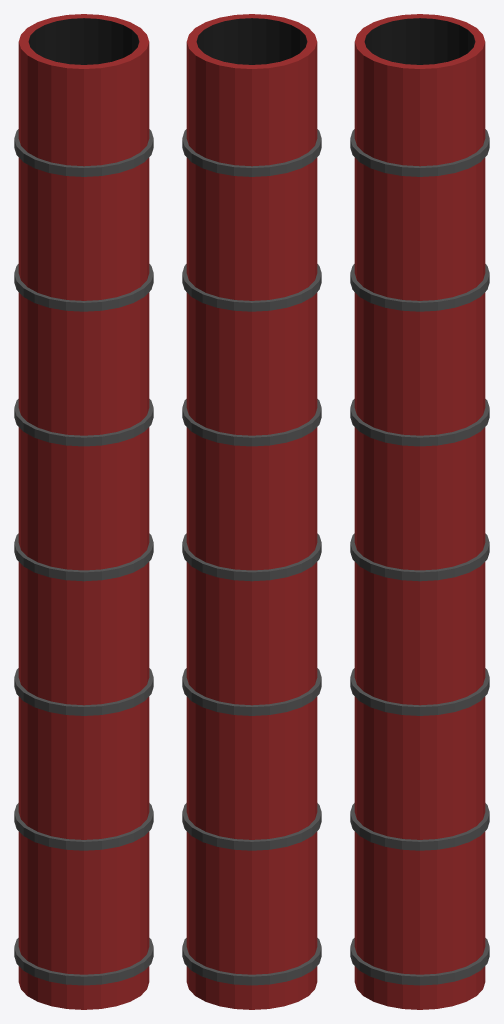
Rendered from Prop_Industrial_Smoke_Stack_01.FBX.
3 views of the same model, side by side, from view 1: azimuth 30°, elevation 25°; view 2: azimuth 150°, elevation 25°; view 3: azimuth 270°, elevation 25° (orthographic).
Visible parts, largest first — view 1: Prop_Industrial_Smoke_Stack_01; view 2: Prop_Industrial_Smoke_Stack_01; view 3: Prop_Industrial_Smoke_Stack_01.
Part boxes in pixels (bbox=[...]): Prop_Industrial_Smoke_Stack_01: bbox=[14, 14, 153, 1009]; Prop_Industrial_Smoke_Stack_01: bbox=[182, 14, 321, 1009]; Prop_Industrial_Smoke_Stack_01: bbox=[350, 14, 489, 1009].
Bounding box in the file's own units: 7981 × 59347 × 7981.
